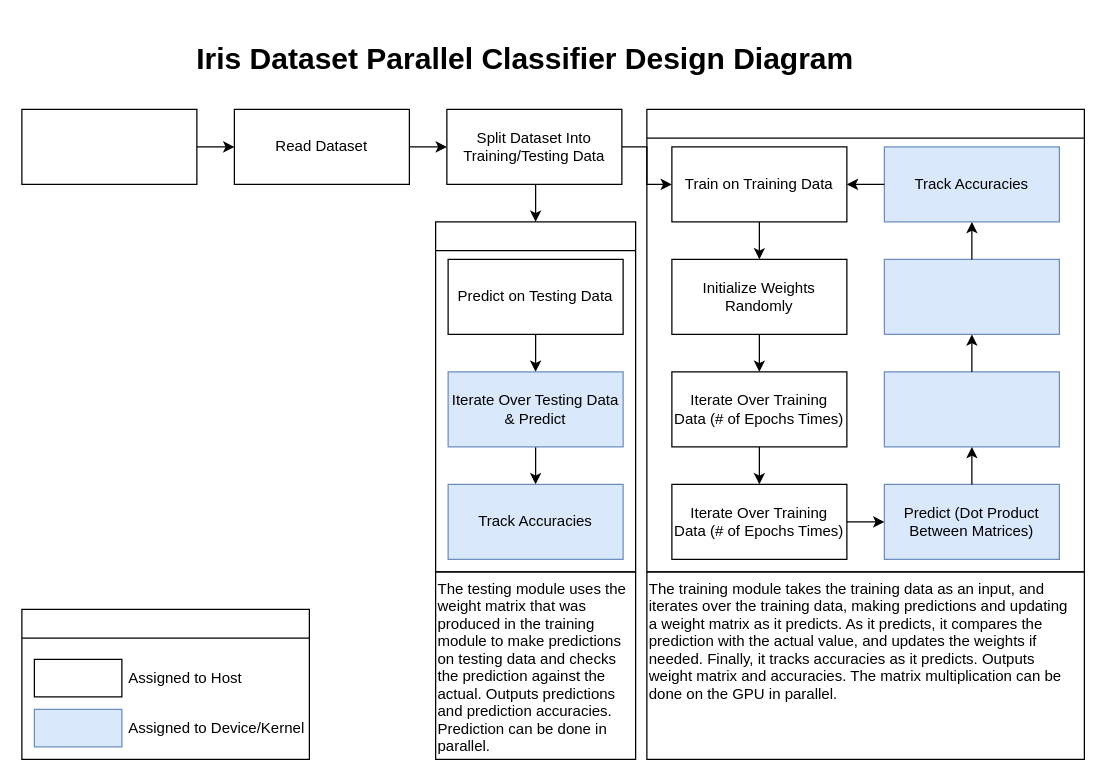
This 1106x781 diagram has some shape labels left out. The box of each missing label's shape, as (x1, y1, x2, y2) in pixels:
Begin Program: (21, 108, 197, 184)
Compare Prediction With Actual: (883, 371, 1059, 447)
Key: (21, 608, 309, 759)
Testing Module: (434, 221, 636, 572)
Training Module: (646, 108, 1084, 572)
Update Weights (Matrix Multiplication): (883, 258, 1059, 334)
